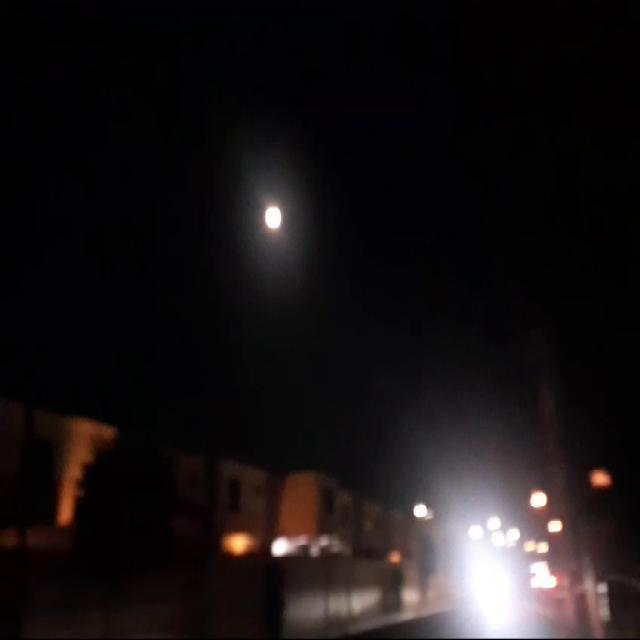moon: (292, 200, 310, 234)
